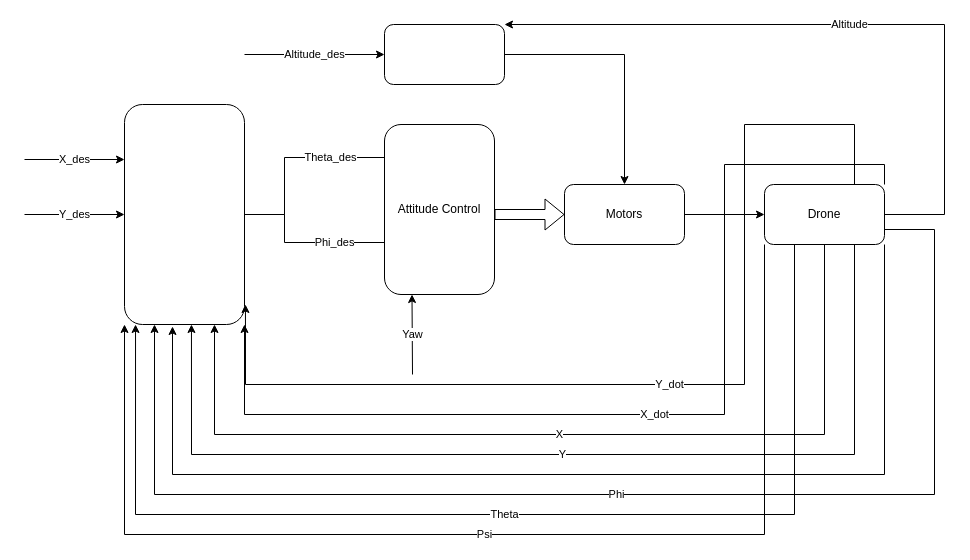
Image size: 970x560. Some labels were removed from this diagram. Each missing label, with the centre of its shape:
Altitude Controller: the point at 444,54
Attitude Cal: the point at 184,214
